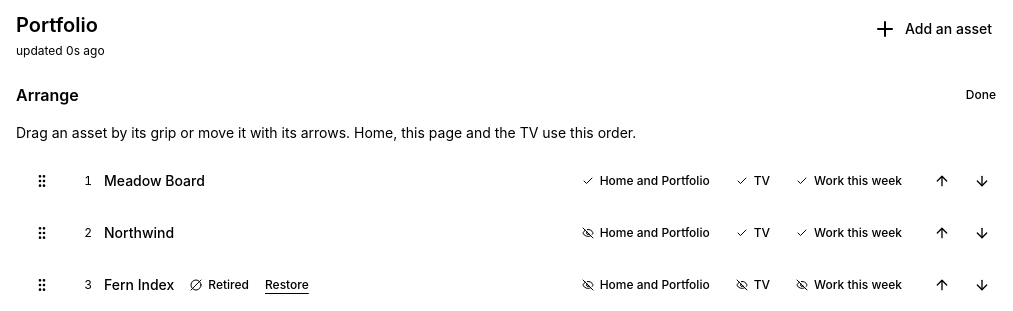
it: Arrange on the Assets page › returns on Done to the list in the chosen order, the hidden assets gone and counted
The width and height of the screenshot is (1013, 311).
Click the link "Done". click: click(981, 94)
box: [966,87,996,102]
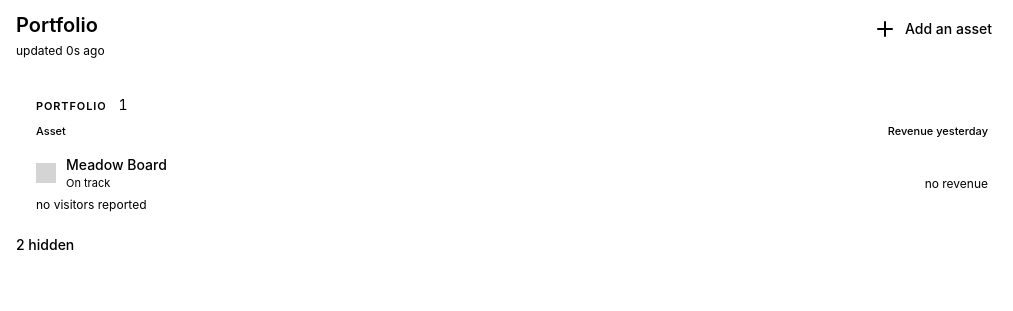
Expected: the heading "Arrange" is gone
Expected: the link "2 hidden" is shown, [16,236,74,253]
